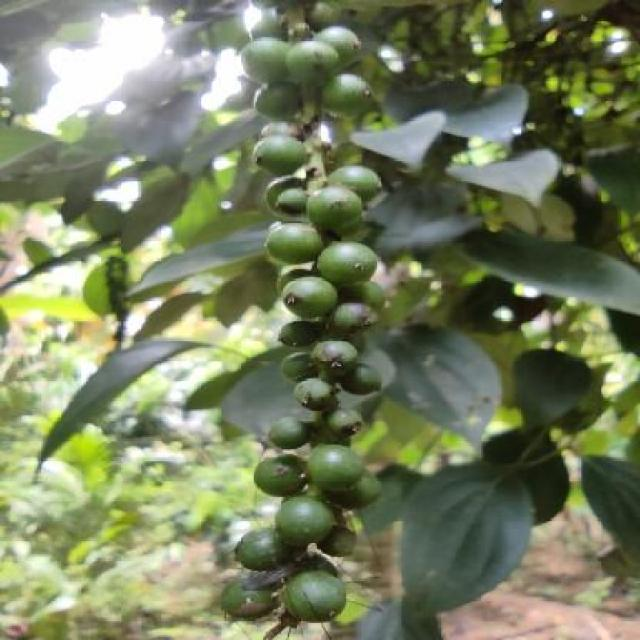UNRIPE: (218, 1, 379, 622)
